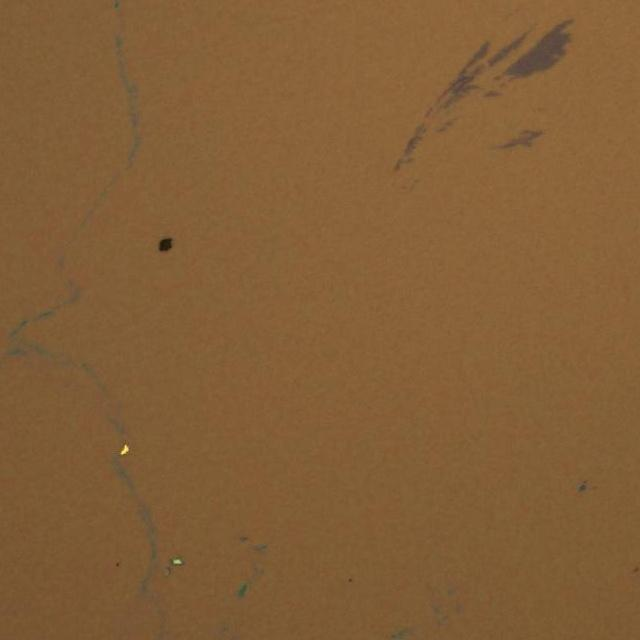monolayer-eWW4: (498, 17, 573, 83), (484, 28, 525, 72), (462, 40, 491, 76), (496, 128, 543, 150), (485, 88, 500, 99)
